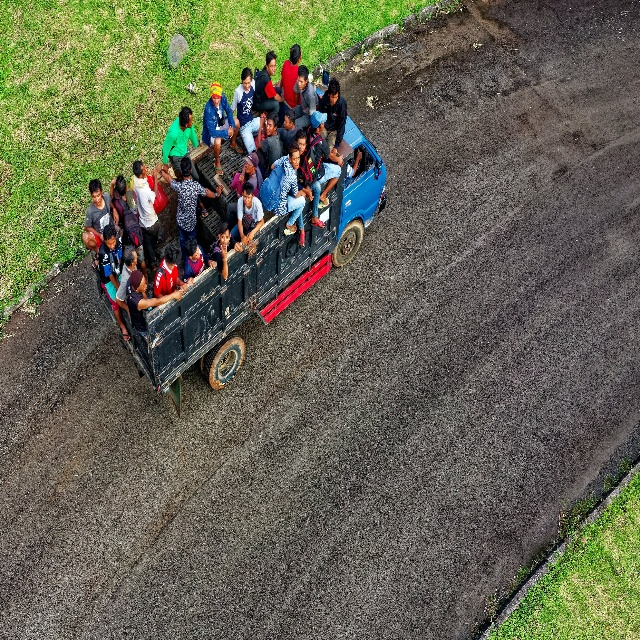Sin_guantes: (173, 288, 184, 302), (220, 244, 228, 260), (246, 230, 254, 246), (215, 184, 224, 198), (180, 281, 188, 294), (306, 189, 314, 202), (113, 208, 119, 225), (232, 242, 241, 253), (241, 233, 248, 246), (337, 154, 344, 167), (209, 259, 217, 270), (186, 277, 194, 287), (163, 162, 169, 174), (239, 173, 245, 185), (356, 149, 362, 161), (156, 162, 162, 173), (259, 116, 265, 127), (151, 169, 158, 178), (229, 126, 234, 138), (273, 81, 281, 88), (111, 178, 117, 186), (228, 125, 232, 137), (261, 111, 266, 120), (99, 233, 104, 242), (281, 92, 285, 103), (331, 148, 337, 155), (145, 168, 149, 178), (301, 190, 306, 198), (197, 138, 201, 147)
